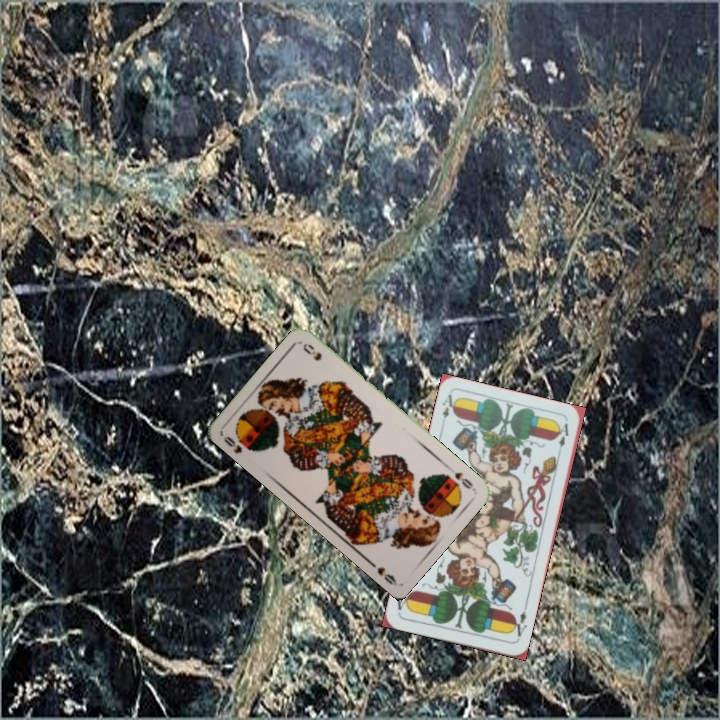EA: (507, 602, 530, 639), (438, 390, 459, 421)
SO: (442, 462, 475, 491), (219, 432, 257, 456)
